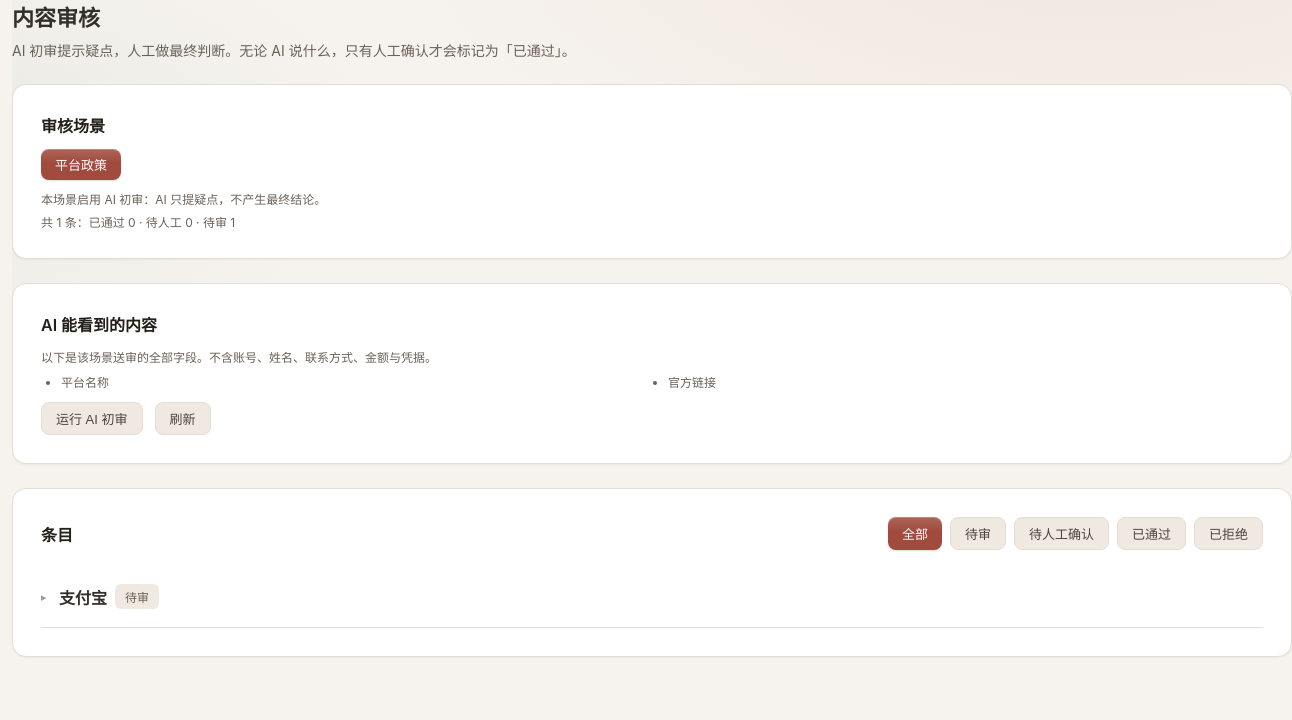
AI 初审与人工终审的分工 › 未配置 AI 时如实降级为纯人工，不伪造结论
Click the button "运行 AI 初审".
click(92, 418)  # box [41,402,142,435]
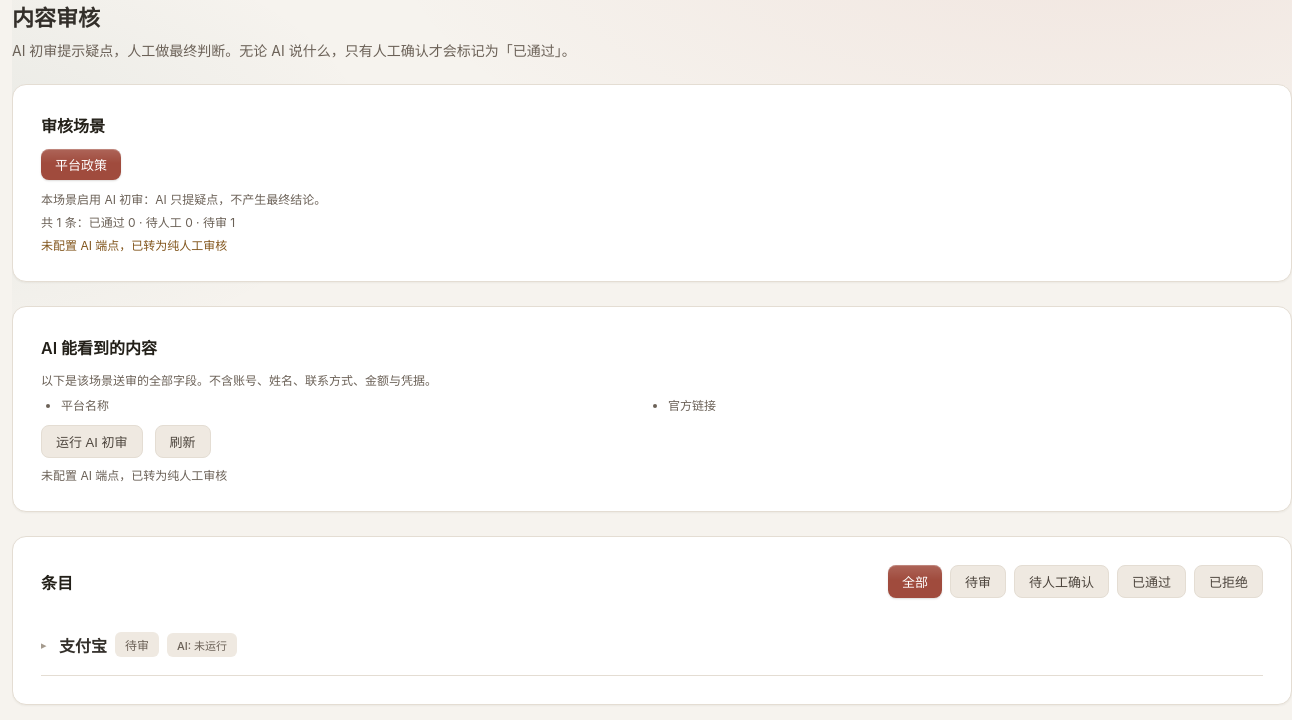
Result: the text "未配置 AI 端点" is shown at [41,238,227,253]
Result: the text "未运行" is shown at [177,638,227,652]
